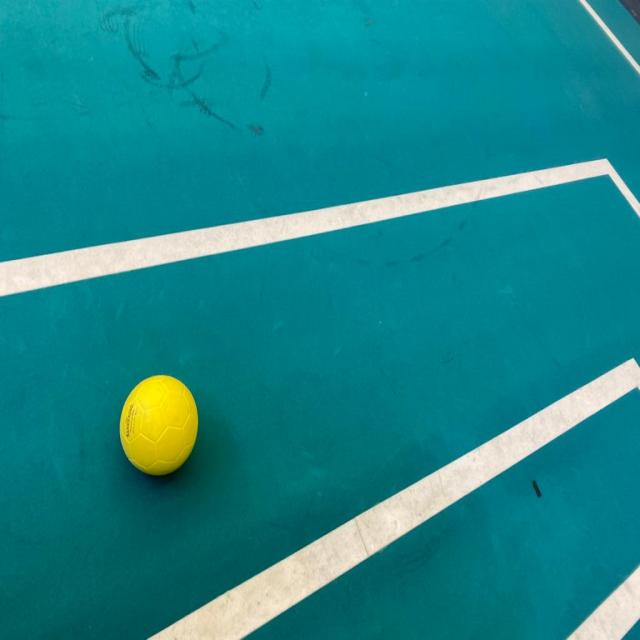ball: (107, 362, 205, 490)
